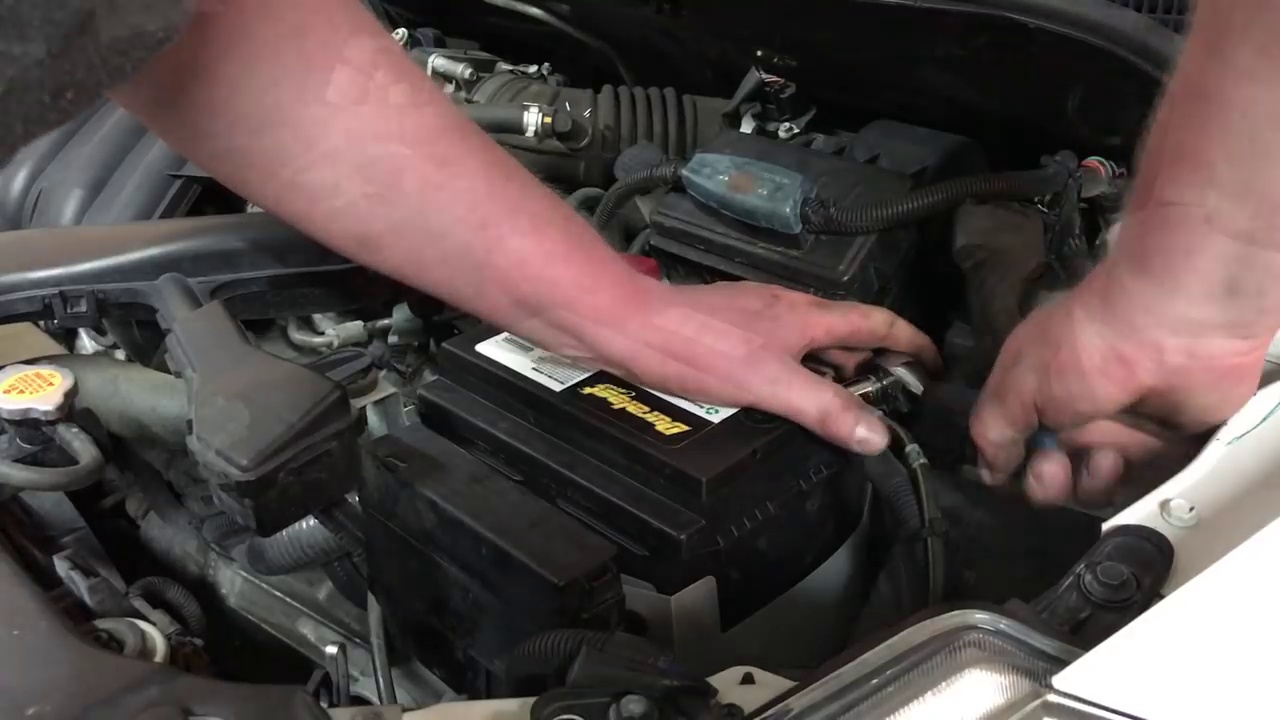battery: (436, 275, 865, 469)
